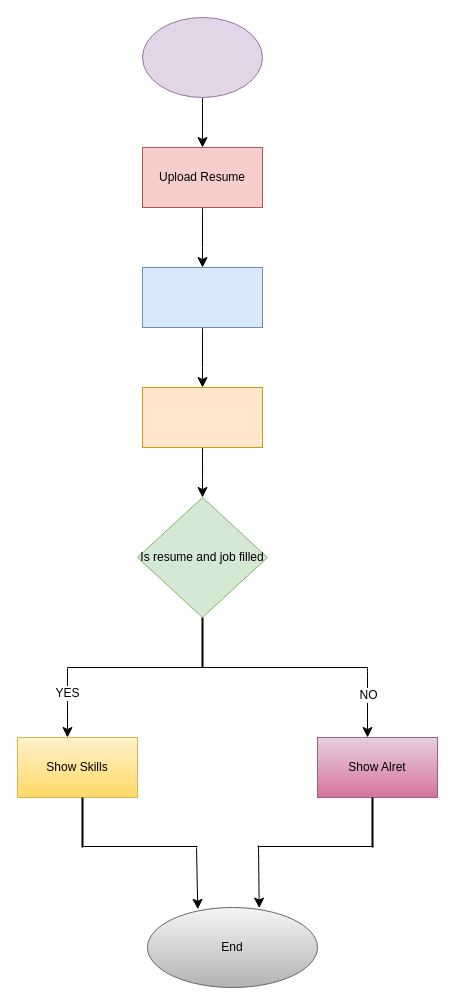
Some shapes in this 455 by 1005 pixel diagram are drawn without their labels. Each missing label, with the centre of its shape:
Click Analyze: [202,417]
Enter Dream Job: [202,297]
Start: [202,57]
